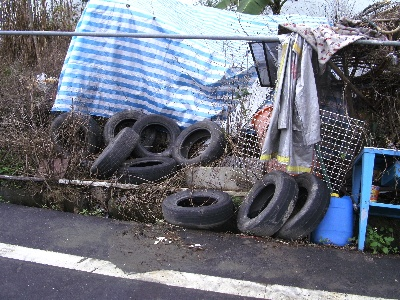bucket: (311, 192, 355, 247)
plastic_bag: (51, 2, 328, 133)
tire: (237, 170, 299, 235), (162, 189, 233, 229), (90, 125, 140, 180), (173, 119, 226, 166), (132, 113, 179, 156), (118, 156, 178, 182)
